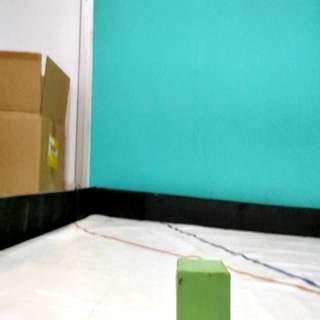greenbox: (175, 255, 230, 320)
